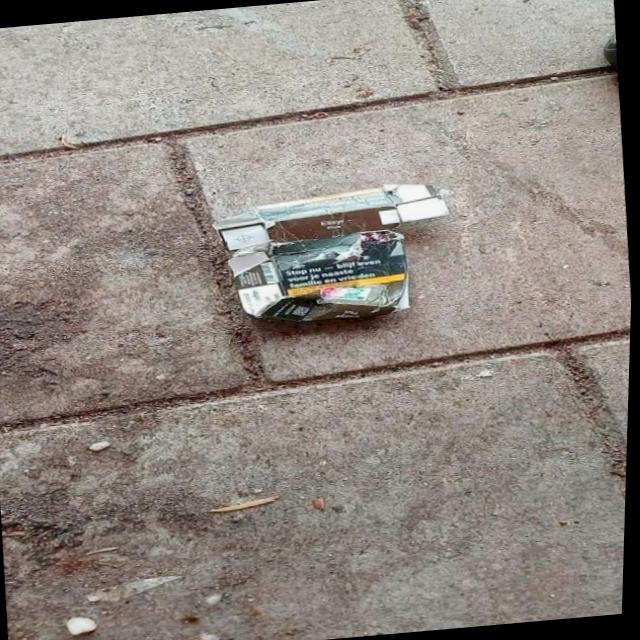Paper: (205, 176, 464, 331)
